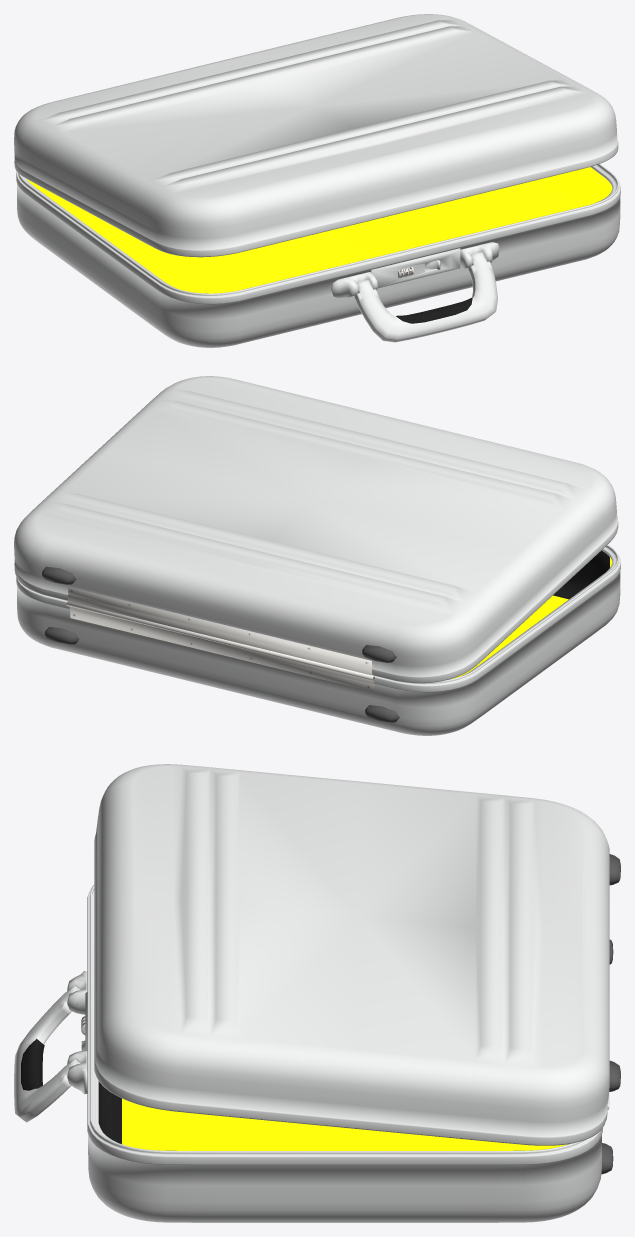
3 views of the same model, one above another, from view 1: azimuth 30°, elevation 25°; view 2: azimuth 150°, elevation 25°; view 3: azimuth 270°, elevation 25° (orthographic). The views are drawn at different scales.
Visible parts, largest first — view 1: Cube.001; view 2: Cube.001; view 3: Cube.001.
Part boxes in pixels (x1,y1,x2,y2): Cube.001: (14,14,620,347); Cube.001: (14,376,620,735); Cube.001: (14,764,620,1222).
Size of the model in its own units: 89.12 by 28.13 by 77.99.
2 materials, 1 textured.
